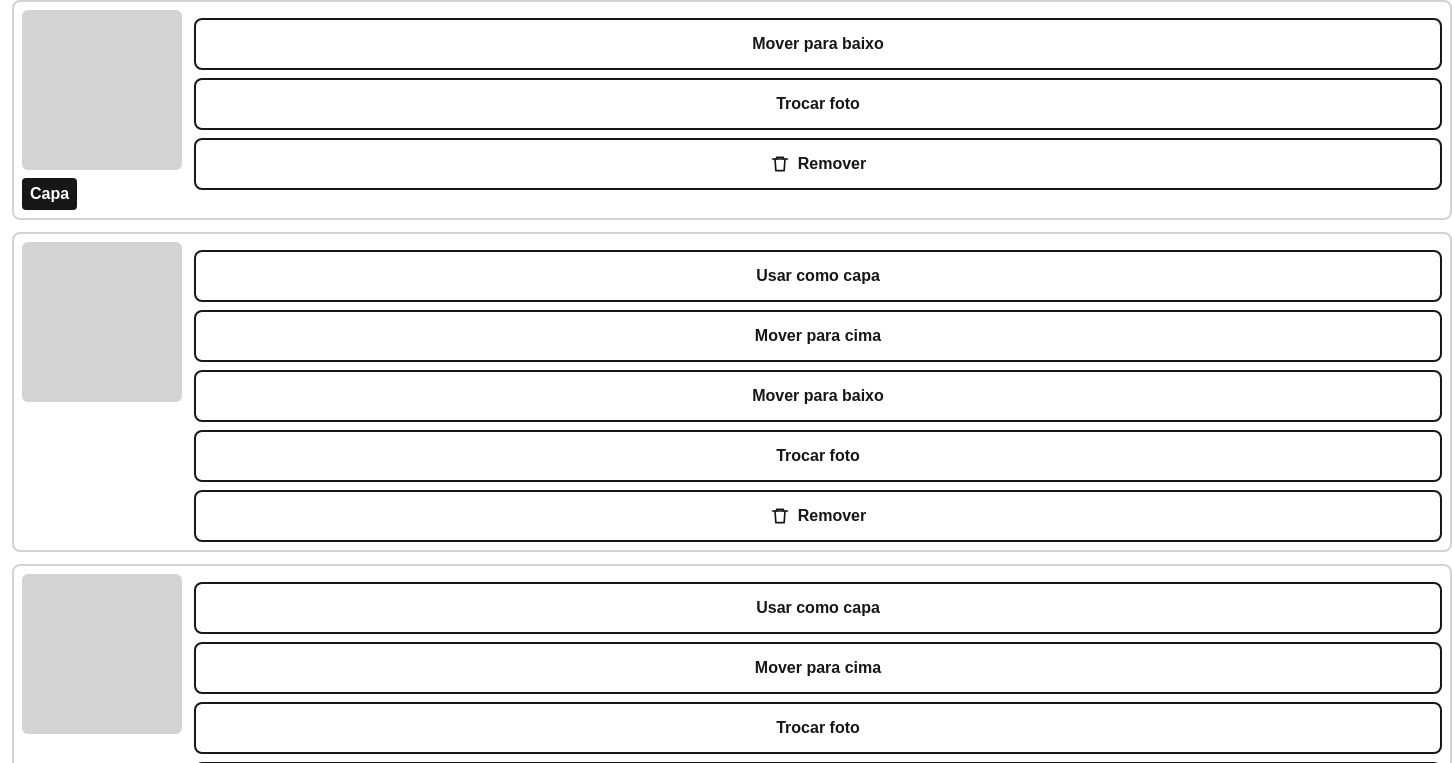
Scenario: GerenciarFotos — remover (US4-AC3, FR-022) › confirmar ⇒ removerFoto({produtoId, fotosVersao, posicao}) e, no ok, lista nova + aviso "Foto removida"
The image size is (1452, 763).
Click the 2nd button "Remover".
click(818, 516)  # box [194,490,1442,542]
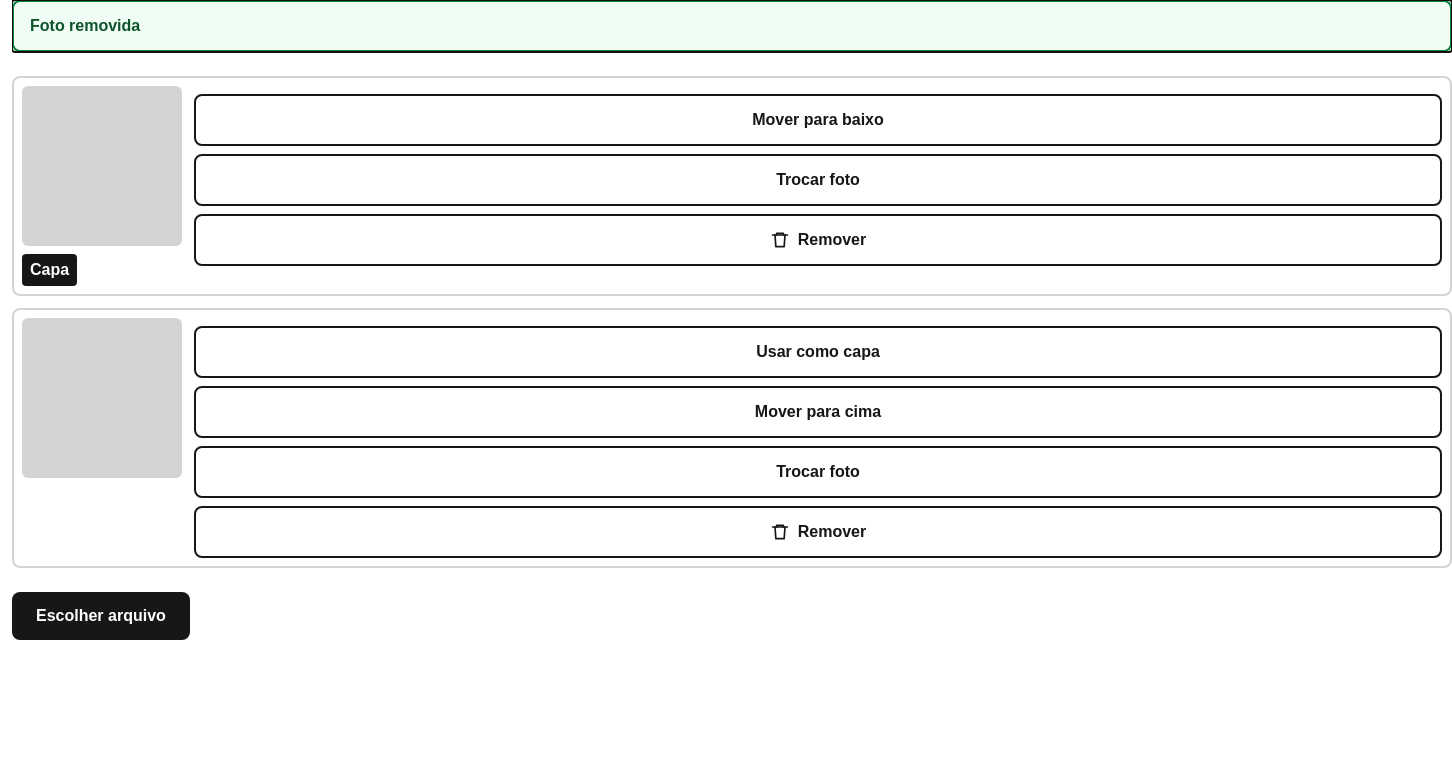
Expected: the number of list items is 2, [12,76,1451,296]; [12,308,1451,568]
